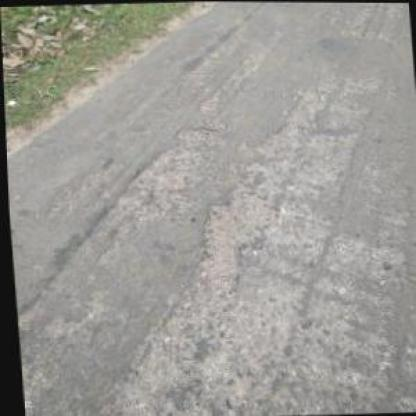pothole: (113, 122, 224, 211), (190, 184, 279, 283)
